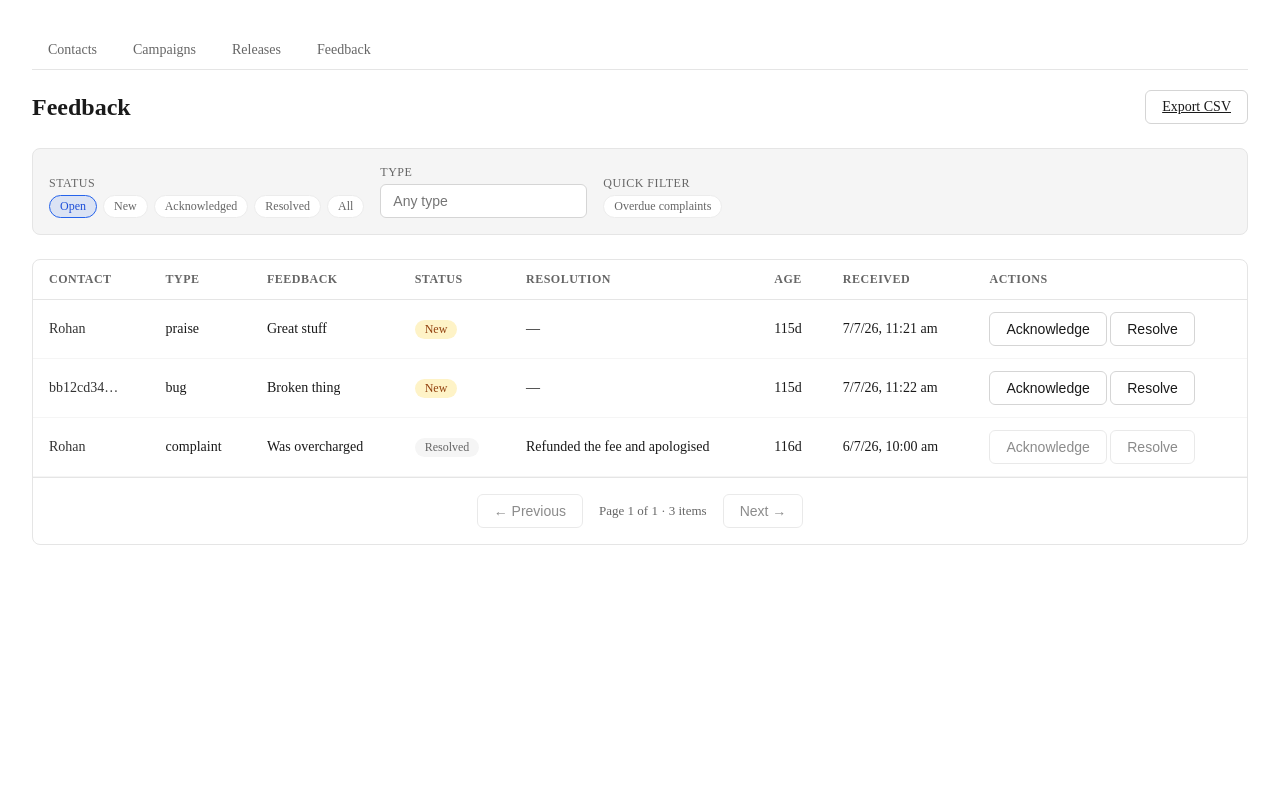
FeedbackQueueView contact column › Resolve opens the note modal instead of firing the command immediately
Step 1. Click the button "Resolve" in the row of "praise" → x=1153, y=329, box [1110, 312, 1195, 346]
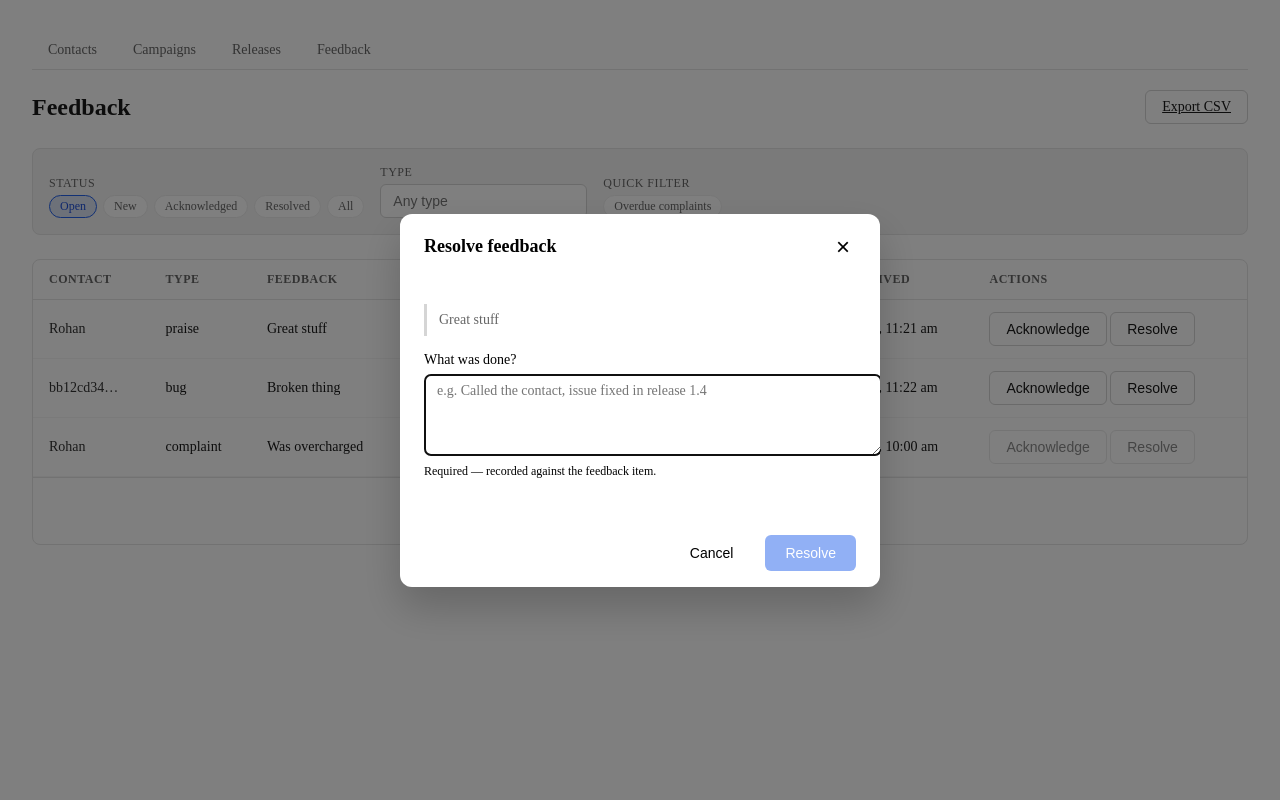
Check: the text "What was done?" is shown, box [424, 352, 516, 366]
